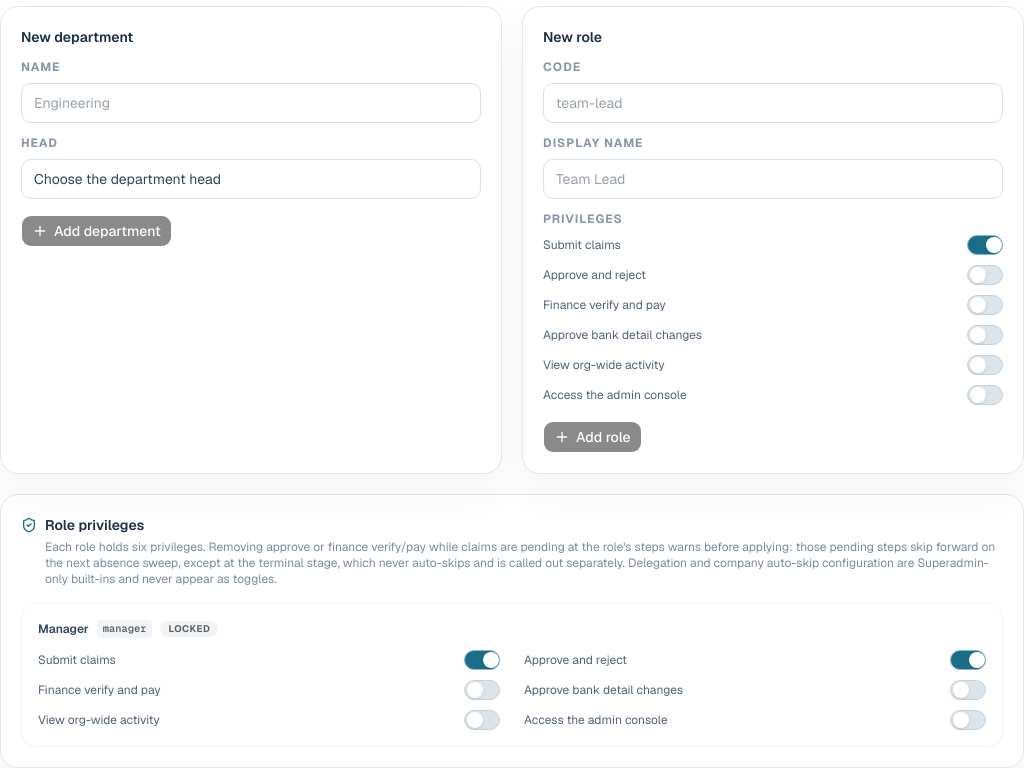
Scenario: OrgSection privilege toggles › opens the warning dialog when removing an action privilege with pending claims
(page scrolled)
Click the switch named "Manager Approve and reject". click: [968, 660]
box: [950,650,986,670]
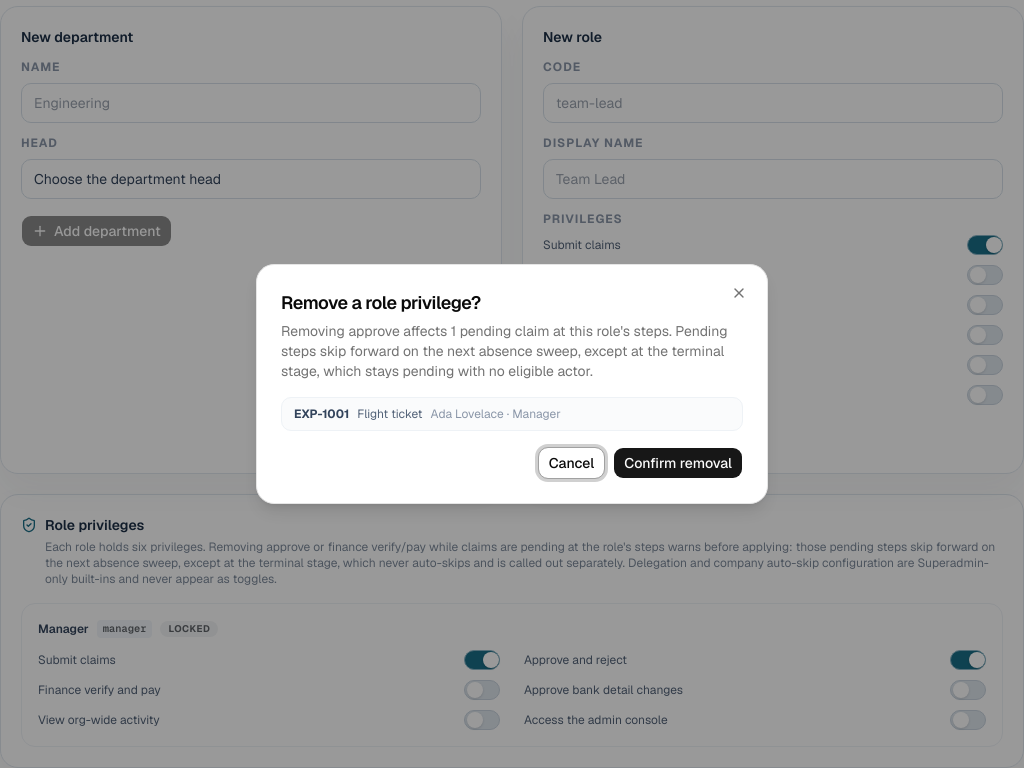
Check: the dialog is shown, box [256,264,768,504]
Check: the heading "Remove a role privilege?" is shown, box [281,291,481,314]
Check: the text "Removing approve affects 1 pending claim at this role's steps. Pending steps skip forward on the next absence sweep, exc" is shown, box [281,322,728,380]
